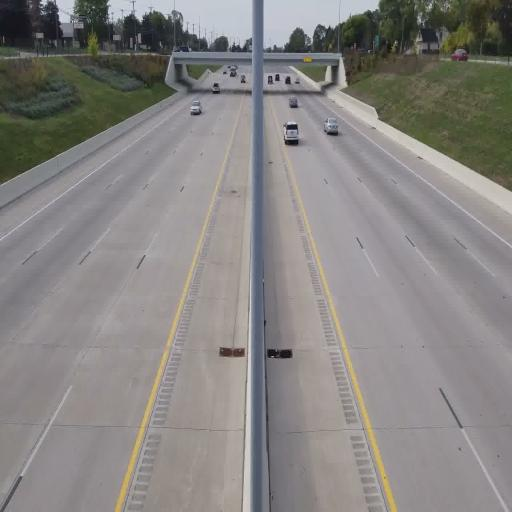Car: (282, 120, 299, 144), (324, 116, 338, 135), (451, 48, 469, 62), (190, 98, 202, 115), (289, 96, 298, 108), (212, 82, 220, 93)
